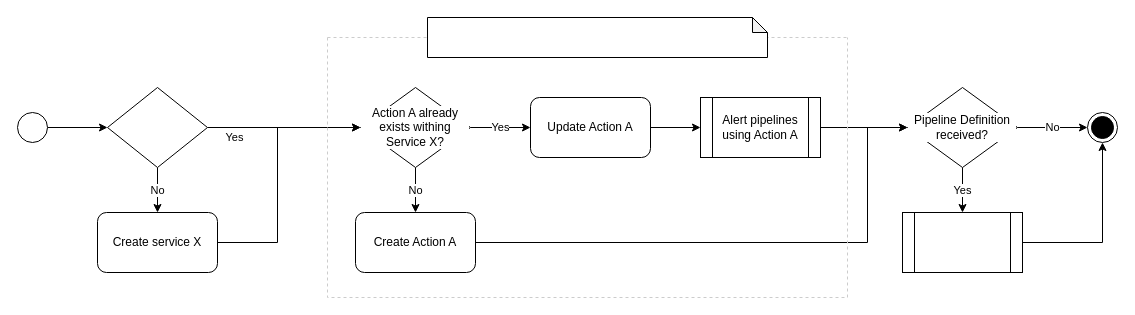
Image size: 1135x315. Some labels were removed from this diagram. Each missing label, with the centre of its shape:
"Create/Update pipelines" belongs at pixel 962 242.
"Loops through actions received (A...N)" belongs at pixel 597 37.
"Service X already exists?" belongs at pixel 157 127.
